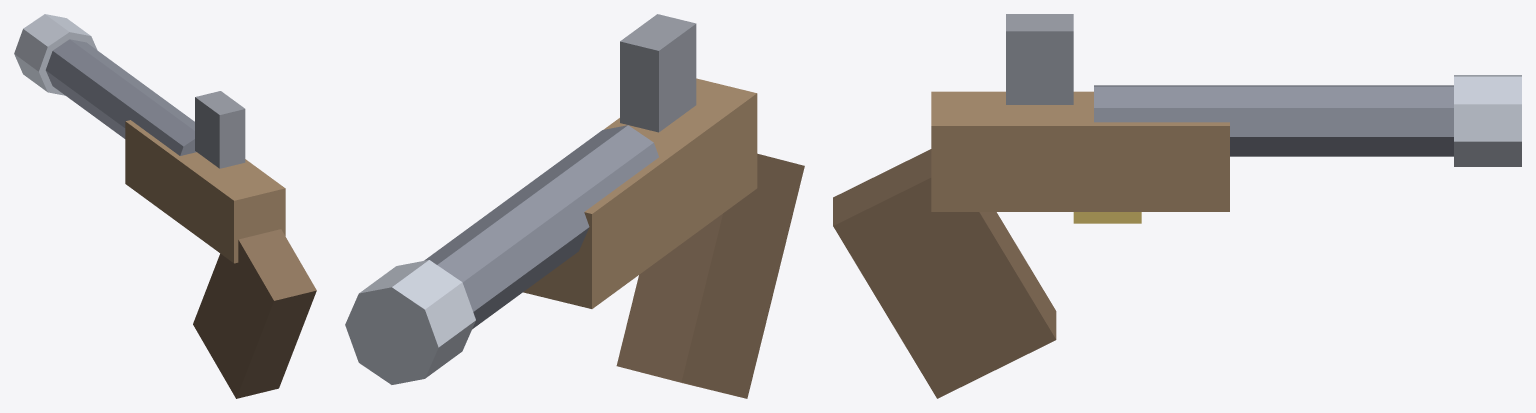
File: gun_flintlock.glb
The picture shows the model from 3 angles, left to right: view 1: azimuth 30°, elevation 25°; view 2: azimuth 150°, elevation 25°; view 3: azimuth 270°, elevation 25°; orthographic projection. The views are drawn at different scales.
Parts seen in each view (by area): view 1: gun_flintlock_00, gun_flintlock_01, gun_flintlock_02, gun_flintlock_04, gun_flintlock_03; view 2: gun_flintlock_00, gun_flintlock_01, gun_flintlock_02, gun_flintlock_03, gun_flintlock_04; view 3: gun_flintlock_01, gun_flintlock_00, gun_flintlock_02, gun_flintlock_03, gun_flintlock_04, gun_flintlock_05.
Boxes of the visible parts, x1=… form: gun_flintlock_00: x1=193, y1=229, x2=316, y2=398; gun_flintlock_01: x1=125, y1=120, x2=285, y2=263; gun_flintlock_02: x1=45, y1=39, x2=196, y2=155; gun_flintlock_04: x1=195, y1=91, x2=245, y2=168; gun_flintlock_03: x1=14, y1=14, x2=97, y2=95; gun_flintlock_00: x1=616, y1=153, x2=804, y2=398; gun_flintlock_01: x1=523, y1=78, x2=757, y2=308; gun_flintlock_02: x1=424, y1=125, x2=658, y2=329; gun_flintlock_03: x1=345, y1=260, x2=475, y2=384; gun_flintlock_04: x1=620, y1=14, x2=696, y2=132; gun_flintlock_01: x1=931, y1=91, x2=1229, y2=211; gun_flintlock_00: x1=833, y1=149, x2=1056, y2=398; gun_flintlock_02: x1=1094, y1=85, x2=1453, y2=156; gun_flintlock_03: x1=1454, y1=75, x2=1521, y2=166; gun_flintlock_04: x1=1006, y1=14, x2=1073, y2=104; gun_flintlock_05: x1=1073, y1=212, x2=1141, y2=223.
Bounding box in the file's own units: 0.072 × 0.2942 × 0.5072.
